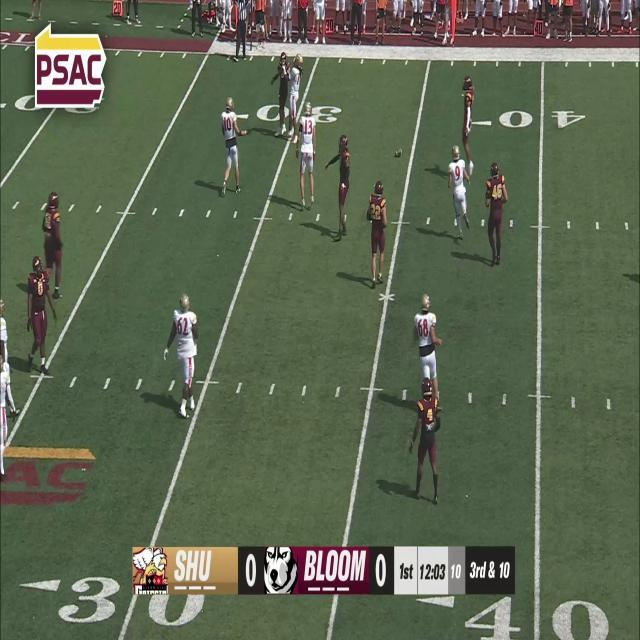football: (394, 148, 402, 159)
